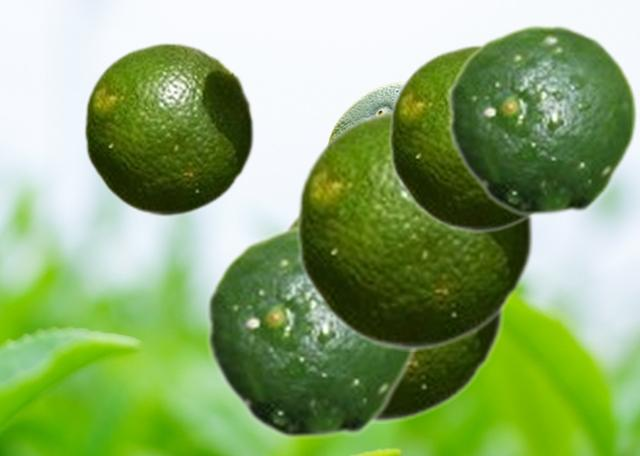calamansi: (294, 106, 535, 350), (280, 210, 505, 422), (205, 224, 419, 440), (447, 23, 638, 217), (82, 41, 255, 216), (387, 43, 536, 232), (325, 81, 403, 140)
